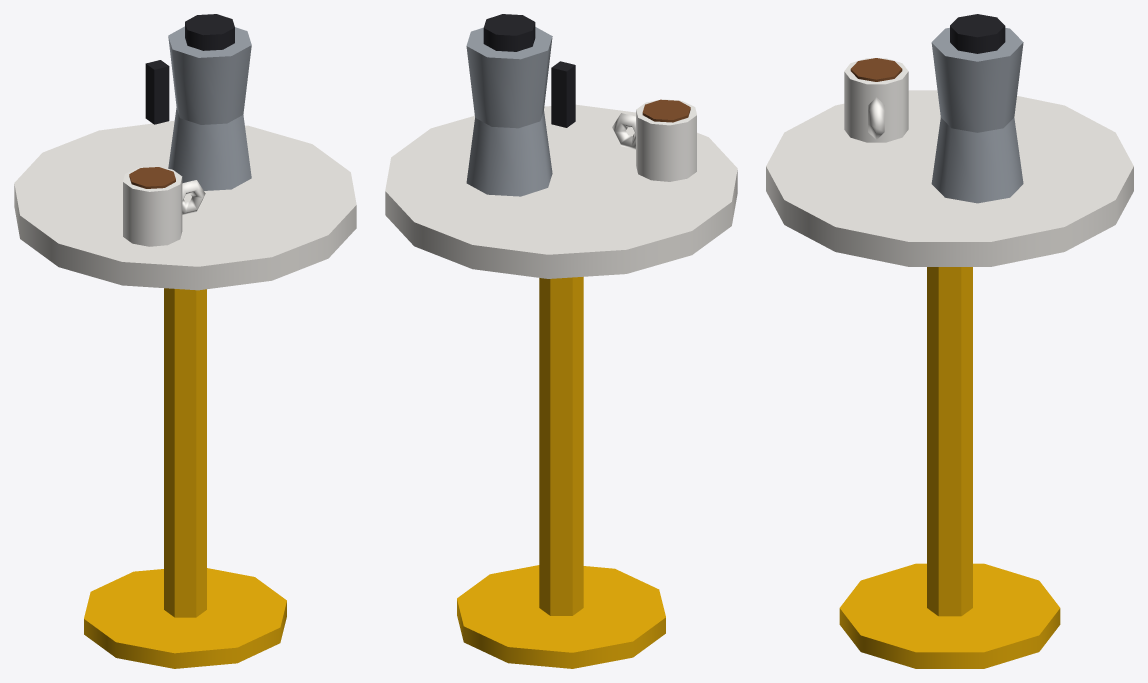
The model's file is station_intake_ausstattung_3_1.glb.
3 views of the same model, side by side, from view 1: azimuth 30°, elevation 25°; view 2: azimuth 150°, elevation 25°; view 3: azimuth 270°, elevation 25° (orthographic). The views are drawn at different scales.
Parts seen in each view (by area): view 1: station_intake_ausstattung_3_1; view 2: station_intake_ausstattung_3_1; view 3: station_intake_ausstattung_3_1.
Part boxes in pixels (x1=…): station_intake_ausstattung_3_1: x1=14, y1=14, x2=356, y2=668; station_intake_ausstattung_3_1: x1=385, y1=14, x2=737, y2=668; station_intake_ausstattung_3_1: x1=766, y1=14, x2=1133, y2=668.
Bounding box in the file's own units: 0.39 × 0.742 × 0.4.
